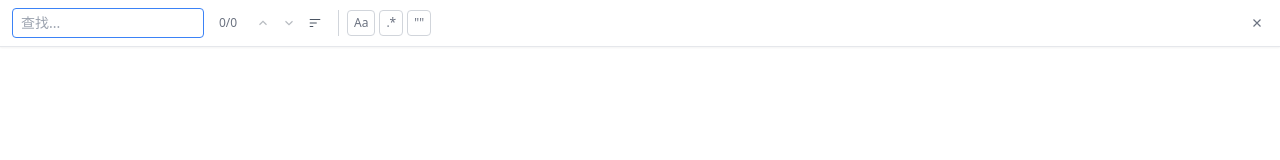
it: FindBar › 大小写敏感开关
In the field with placeholder "查找...": [108, 23] box [12,8,204,38], type "hello"
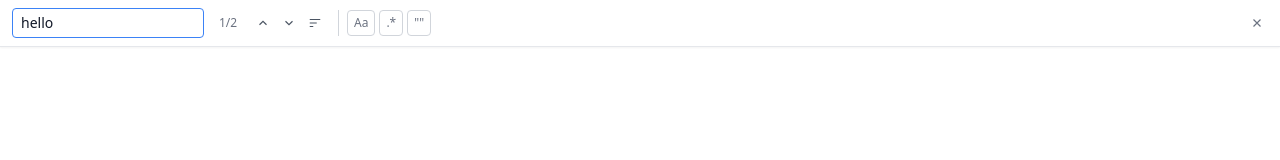
Expected: the text "1/2" is shown, [219,14,237,31]
#  开启大小写敏感
Click the button titled "区分大小写": [361, 23] box [347,10,375,36]
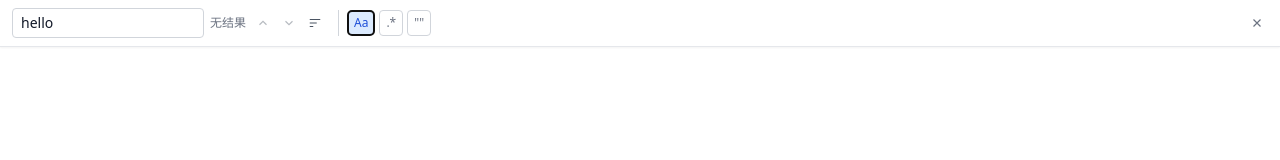
Expected: the text "无结果" is shown, [208,15,248,31]
